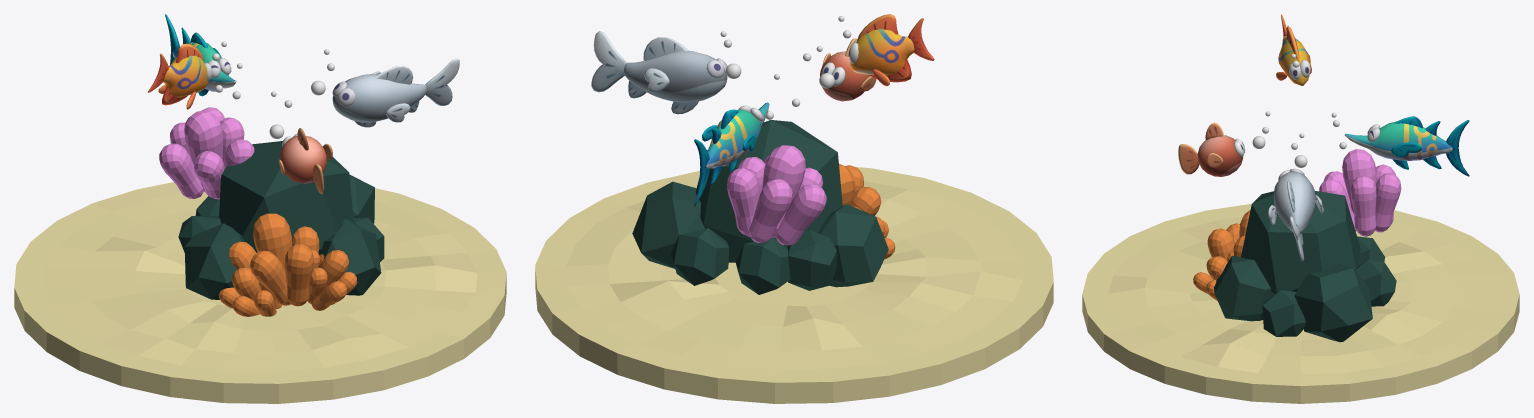
Rendered from fishes.glb.
The picture shows the model from 3 angles, left to right: view 1: azimuth 30°, elevation 25°; view 2: azimuth 150°, elevation 25°; view 3: azimuth 270°, elevation 25°; orthographic projection. The views are drawn at different scales.
Parts seen in each view (by area): view 1: Cylinder, Cube.016, BgMD_item_cashfish01_02.001, Cube.015, BgMD_item_diyfish01_01.001, Cube.014, BgMD_item_cashfish01_01.001, Cube.020, BgMD_item_diyfish01_02.001, Cube.027, Cube.024, Cube.033 (+14 smaller); view 2: Cylinder, BgMD_item_cashfish01_02.001, Cube.016, Cube.018, Cube.015, BgMD_item_diyfish01_01.001, BgMD_item_diyfish01_02.001, Cube.012, Cube.017, Cube.013, Cube.024, Cube.023 (+5 smaller); view 3: Cylinder, Cube.016, Cube.018, BgMD_item_diyfish01_02.001, Cube.014, BgMD_item_cashfish01_02.001, BgMD_item_cashfish01_01.001, Cube.019, BgMD_item_diyfish01_01.001, Cube.021, Cube.012, Cube.022 (+4 smaller).
Boxes of the visible parts, x1,y1,x2,y2 form: Cylinder: [14, 182, 506, 403]; Cube.016: [219, 141, 353, 252]; BgMD_item_cashfish01_02.001: [332, 58, 459, 127]; Cube.015: [184, 223, 244, 299]; BgMD_item_diyfish01_01.001: [148, 43, 212, 109]; Cube.014: [318, 218, 381, 295]; BgMD_item_cashfish01_01.001: [278, 128, 332, 194]; Cube.020: [184, 110, 223, 191]; BgMD_item_diyfish01_02.001: [165, 14, 236, 96]; Cube.027: [284, 244, 313, 306]; Cube.024: [159, 143, 203, 198]; Cube.033: [253, 213, 292, 269]; Cylinder: [535, 167, 1053, 403]; BgMD_item_cashfish01_02.001: [591, 31, 727, 114]; Cube.016: [695, 120, 842, 262]; Cube.018: [632, 181, 704, 268]; Cube.015: [818, 204, 888, 287]; BgMD_item_diyfish01_01.001: [849, 14, 934, 86]; BgMD_item_diyfish01_02.001: [694, 102, 769, 206]; Cube.012: [671, 228, 729, 285]; Cube.017: [787, 230, 837, 290]; Cube.013: [735, 238, 790, 294]; Cube.024: [775, 184, 826, 245]; Cube.023: [749, 179, 792, 242]; Cylinder: [1082, 203, 1519, 403]; Cube.016: [1241, 191, 1360, 294]; Cube.018: [1294, 264, 1372, 342]; BgMD_item_diyfish01_02.001: [1344, 116, 1469, 176]; Cube.014: [1214, 255, 1273, 321]; BgMD_item_cashfish01_02.001: [1268, 168, 1323, 261]; BgMD_item_cashfish01_01.001: [1178, 122, 1245, 176]; Cube.019: [1262, 290, 1305, 336]; BgMD_item_diyfish01_01.001: [1276, 14, 1311, 86]; Cube.021: [1350, 175, 1376, 236]; Cube.012: [1355, 260, 1396, 306]; Cube.022: [1375, 173, 1401, 232].
Size of the model in its own units: 6.01 by 3.78 by 6.01.
13 materials, 4 textured.
